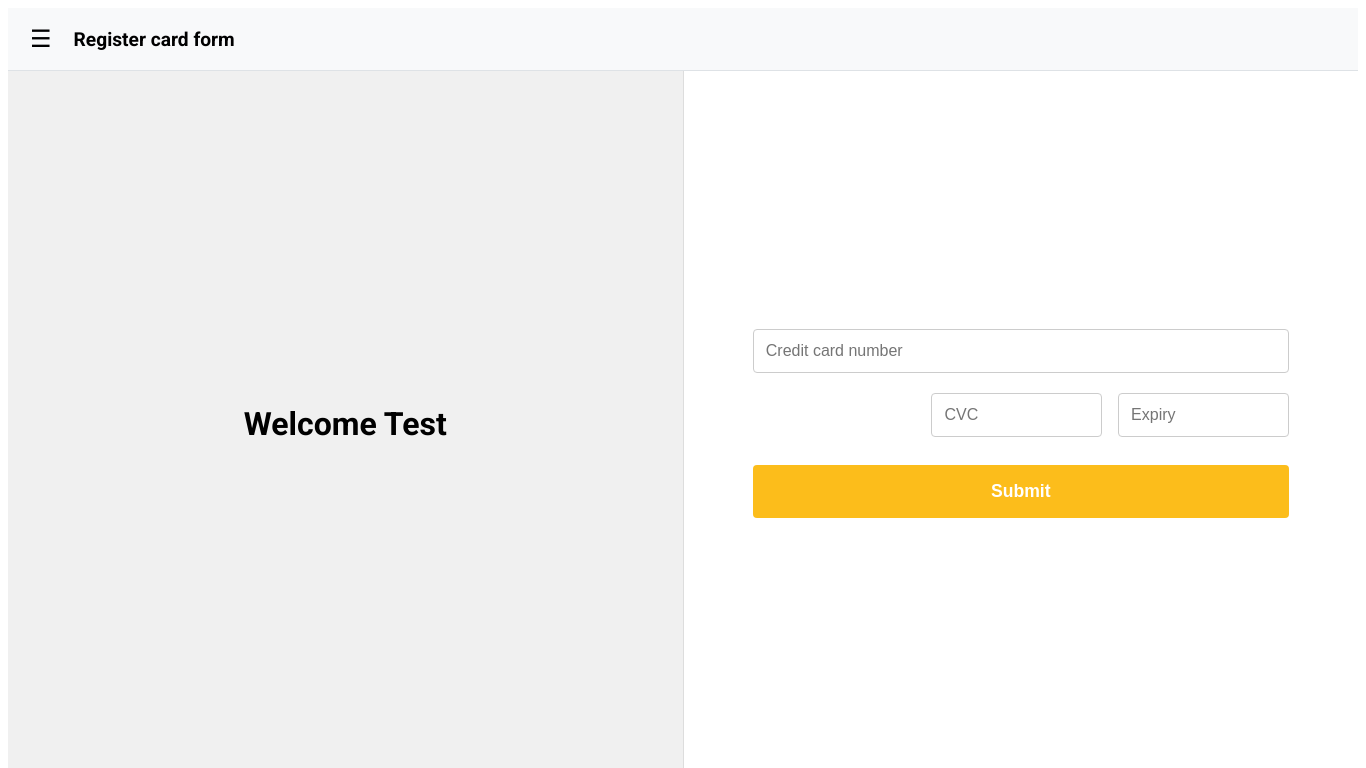
it: App Navigation › clicking ASB Culture shows the culture page
The width and height of the screenshot is (1366, 768).
What coordinates should you click on to do the following:
click the button named "Open menu"
I would click on:
 (41, 39)
Its box is top-left (24, 24), bottom-right (58, 54).
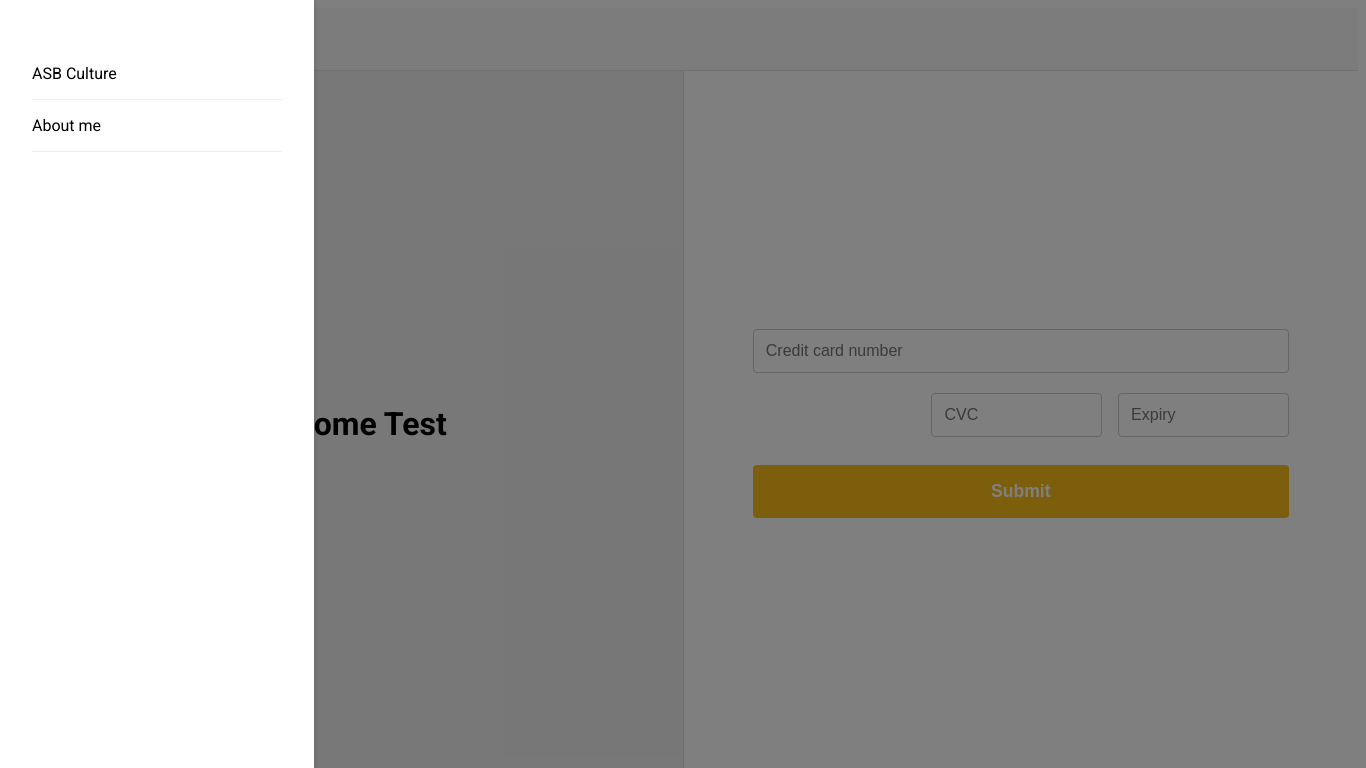
What coordinates should you click on to do the following:
click the button "ASB Culture"
I would click on:
 (157, 74)
Its box is top-left (32, 48), bottom-right (282, 100).
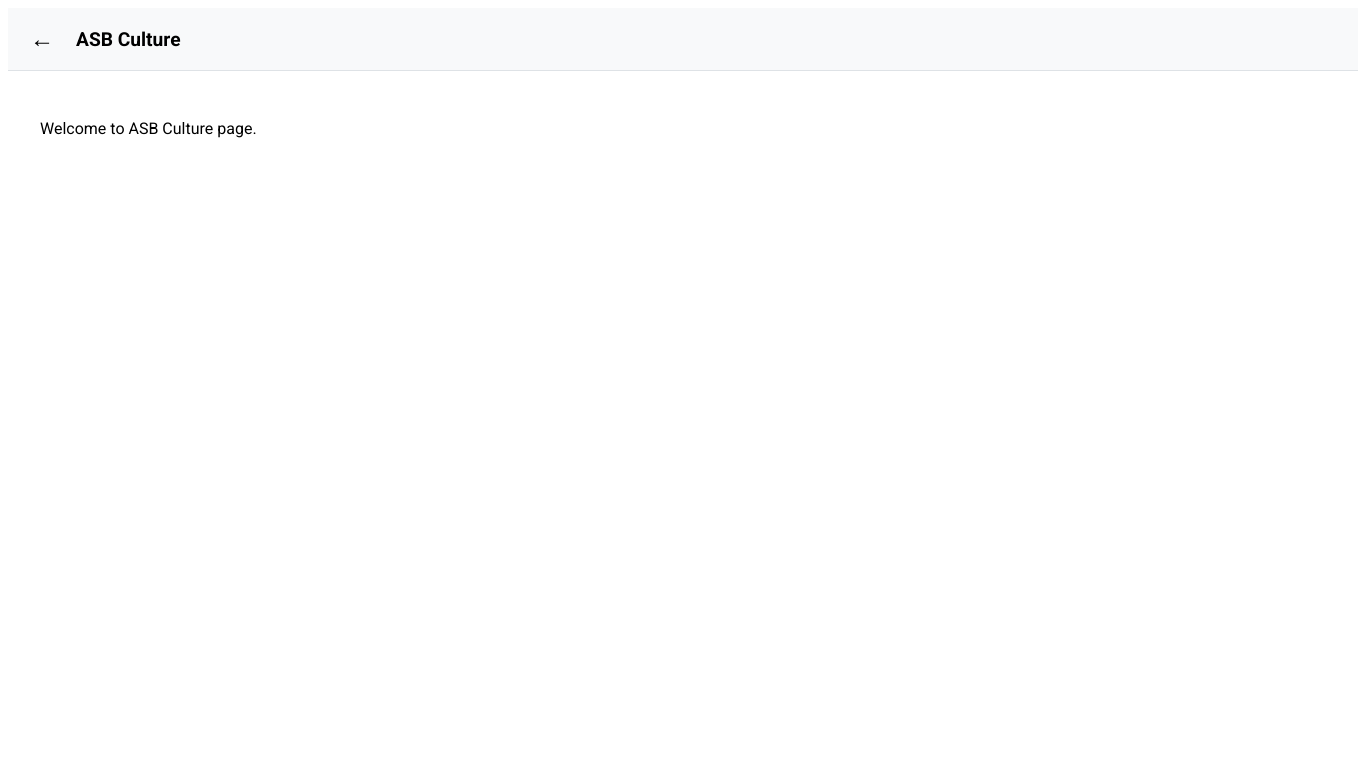
Result: the text "Welcome to ASB Culture page." is shown at top-left (40, 119), bottom-right (257, 138)
